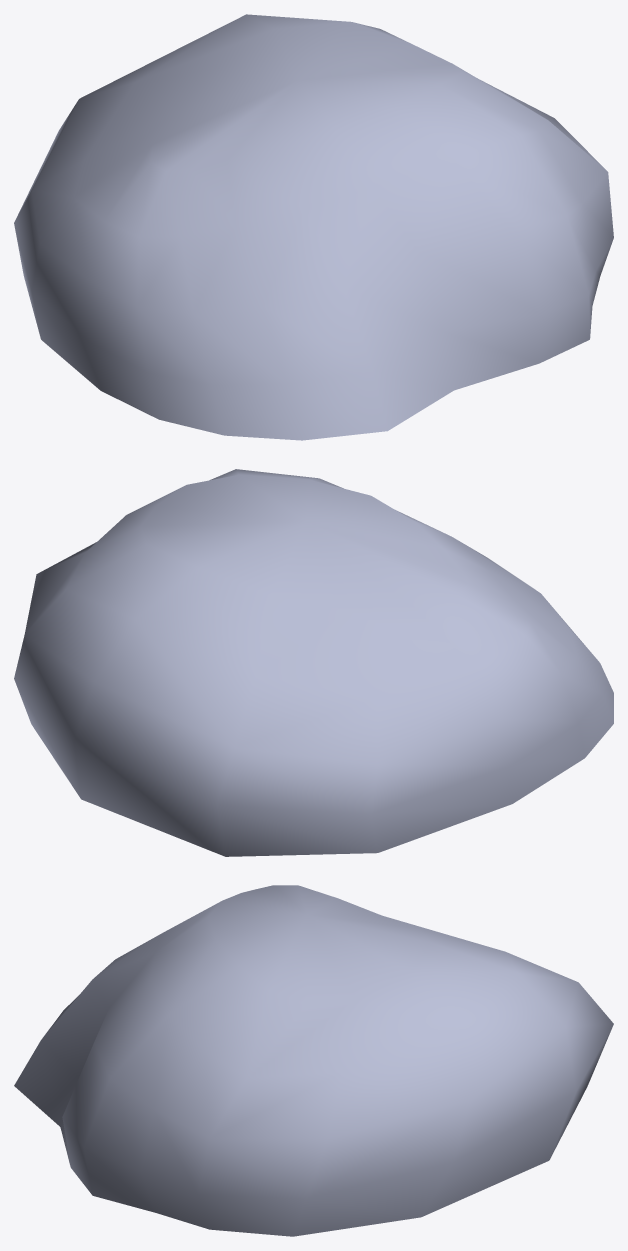
File: Rock_02.fbx
The picture shows the model from 3 angles, top to bottom: view 1: azimuth 30°, elevation 25°; view 2: azimuth 150°, elevation 25°; view 3: azimuth 270°, elevation 25°; orthographic projection. The views are drawn at different scales.
Parts seen in each view (by area): view 1: Rock_02; view 2: Rock_02; view 3: Rock_02.
Part boxes in pixels (box(x1,y1,x2,y2)): Rock_02: box(14, 14, 613, 440); Rock_02: box(14, 469, 613, 856); Rock_02: box(14, 885, 613, 1236).
Size of the model in its own units: 29.48 by 12.2 by 31.66.
